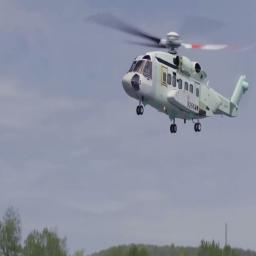helicopter: (104, 26, 256, 140)
